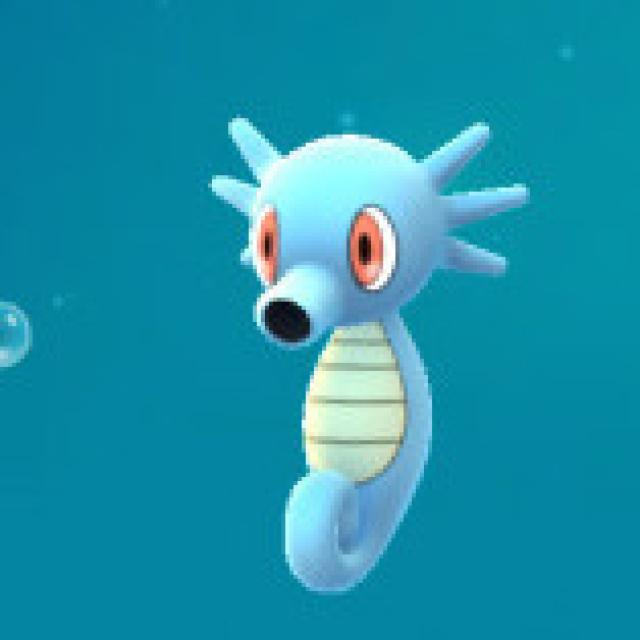Horsea: (209, 119, 503, 600)
